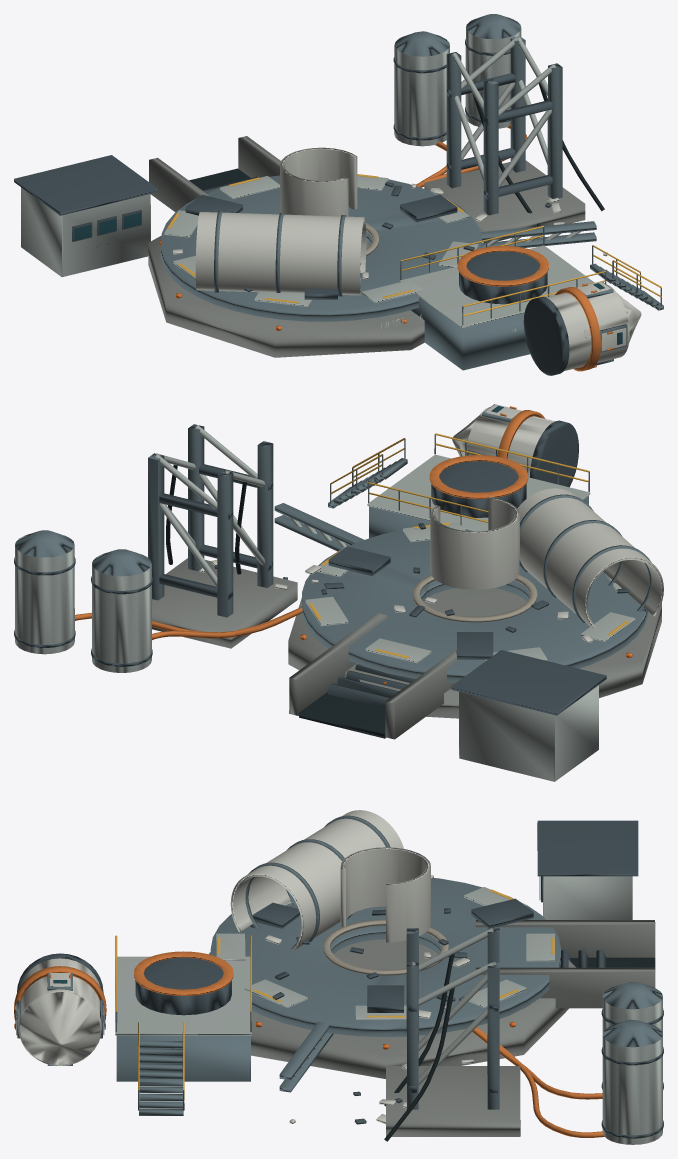
File: hugin_launchpad_d3_lod1.glb
3 renders of one model, top to bottom at view 1: azimuth 30°, elevation 25°; view 2: azimuth 150°, elevation 25°; view 3: azimuth 270°, elevation 25°, orthographic. The views are drawn at different scales.
Parts seen in each view (by area): view 1: HUGIN_LAUNCHPAD_LOD1_STATIC_GEOMETRY; view 2: HUGIN_LAUNCHPAD_LOD1_STATIC_GEOMETRY; view 3: HUGIN_LAUNCHPAD_LOD1_STATIC_GEOMETRY.
Boxes of the visible parts, bbox=[...] form: HUGIN_LAUNCHPAD_LOD1_STATIC_GEOMETRY: bbox=[14, 14, 663, 375]; HUGIN_LAUNCHPAD_LOD1_STATIC_GEOMETRY: bbox=[14, 404, 663, 781]; HUGIN_LAUNCHPAD_LOD1_STATIC_GEOMETRY: bbox=[14, 810, 663, 1144].
Size of the model in its own units: 28.14 by 8.13 by 28.95.
